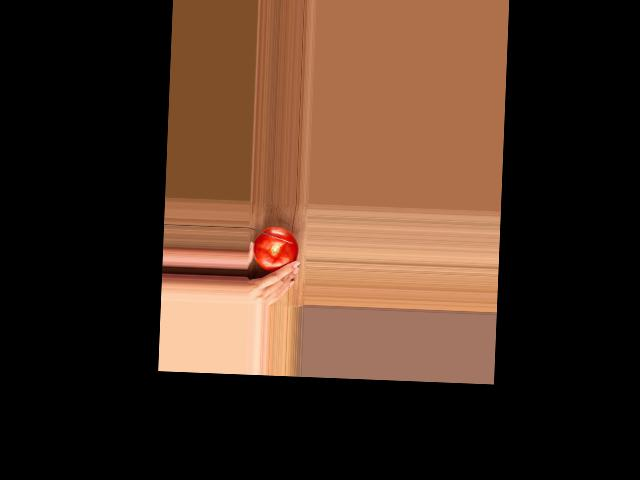tomato: (252, 226, 298, 272)
